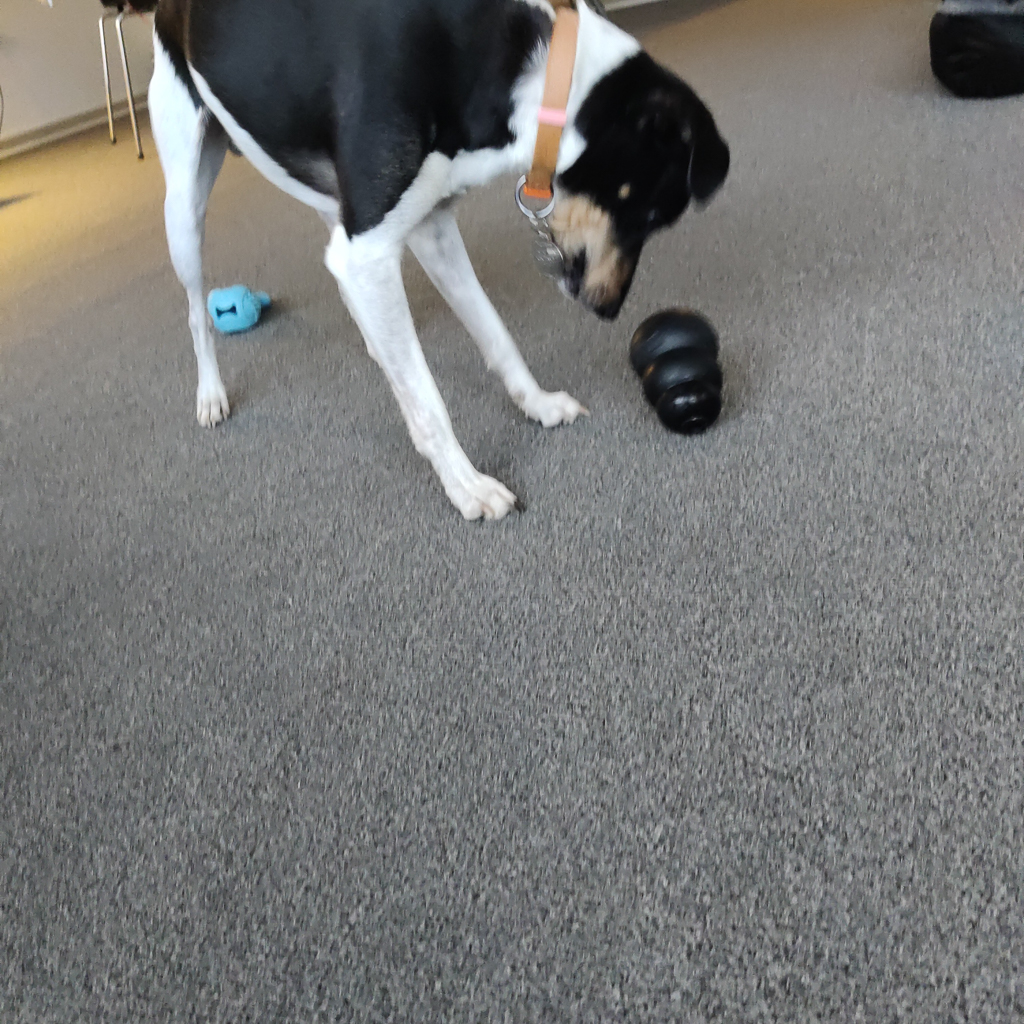Dog: (123, 0, 749, 556)
